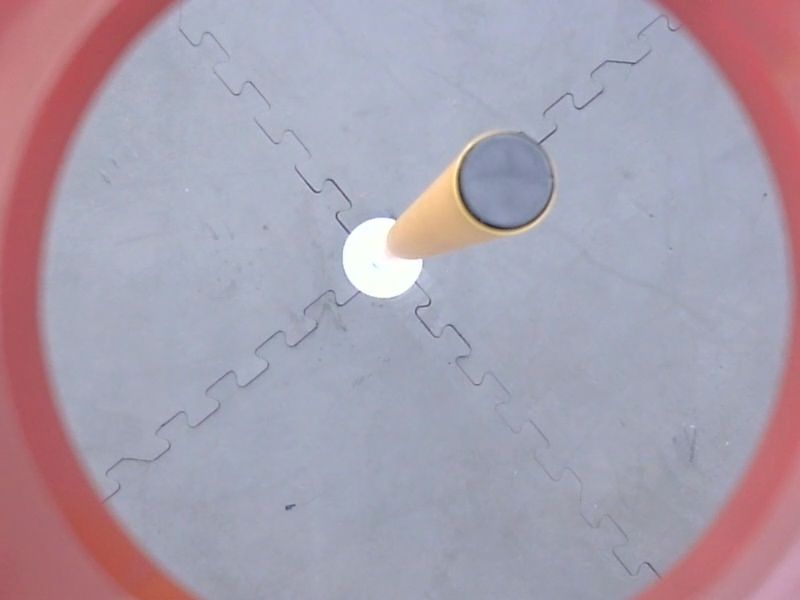tip: (450, 124, 561, 239)
